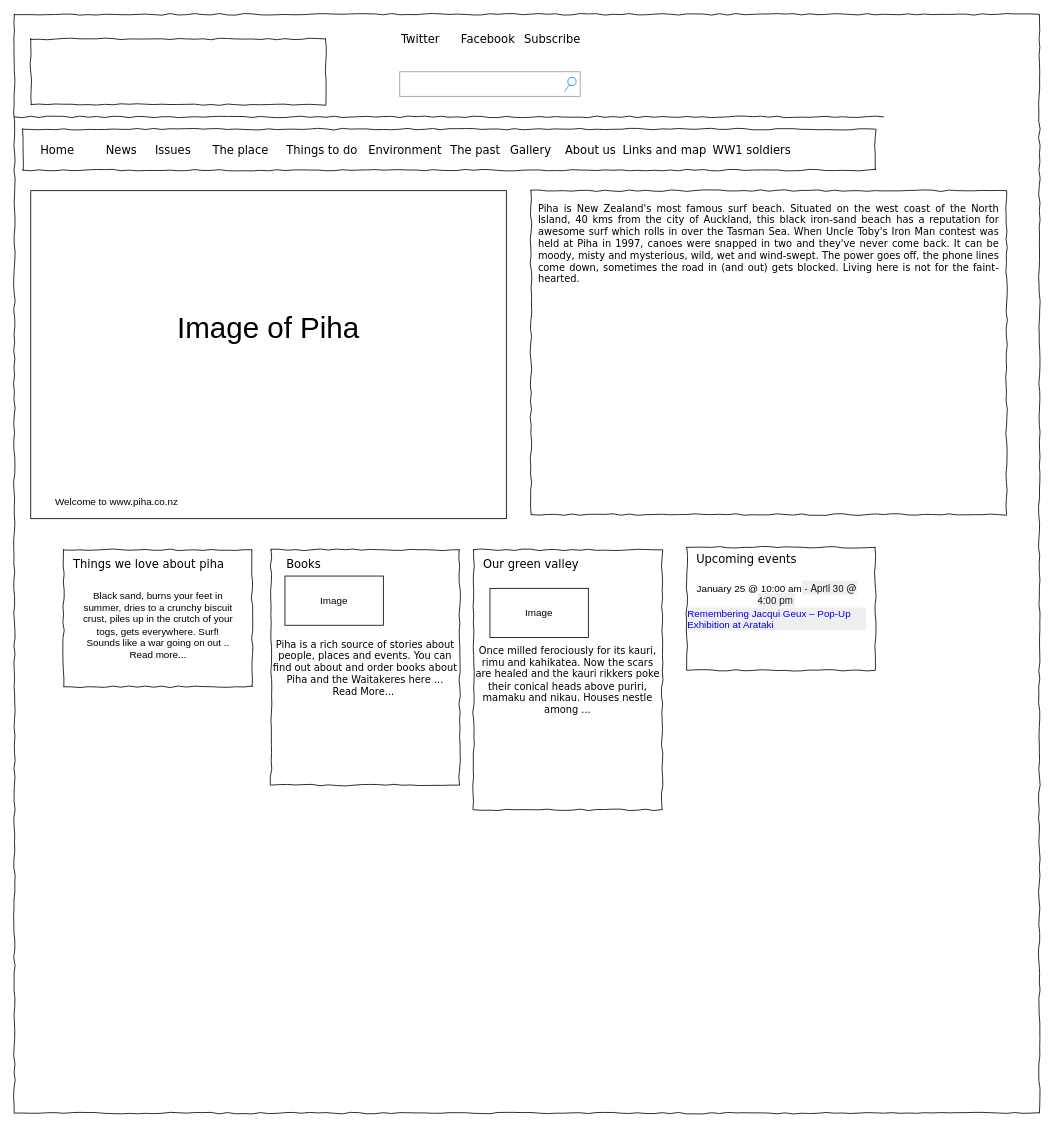
Some shapes in this 1054 by 1128 pixel diagram are drawn without their labels. Here are the shapes that lost their labels. From the top down, the centre of each, then its label:
At point (178, 71): "Welcome to Piha Surf on in!".
At point (489, 83): "Search site".
